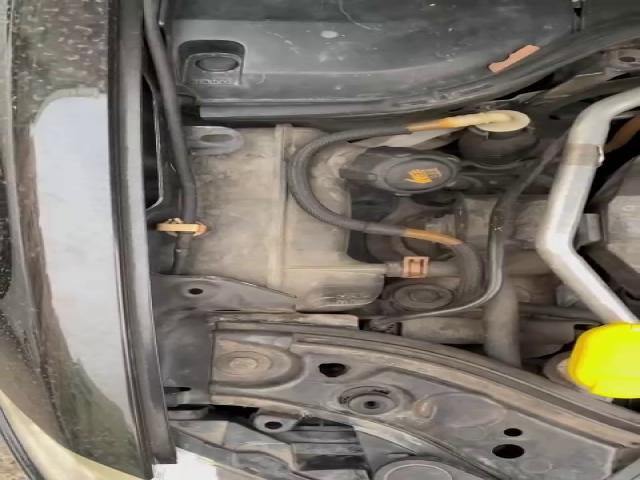antifreeze_tank: (192, 126, 386, 311), (309, 143, 459, 215)
